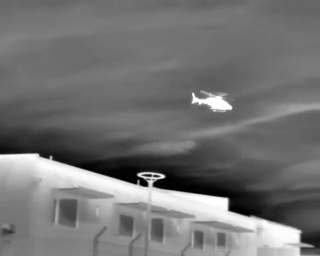HELICOPTER: (189, 84, 241, 119)
